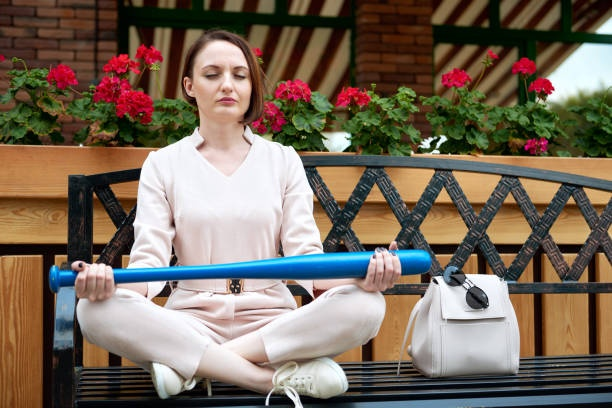bita: (49, 250, 437, 300)
